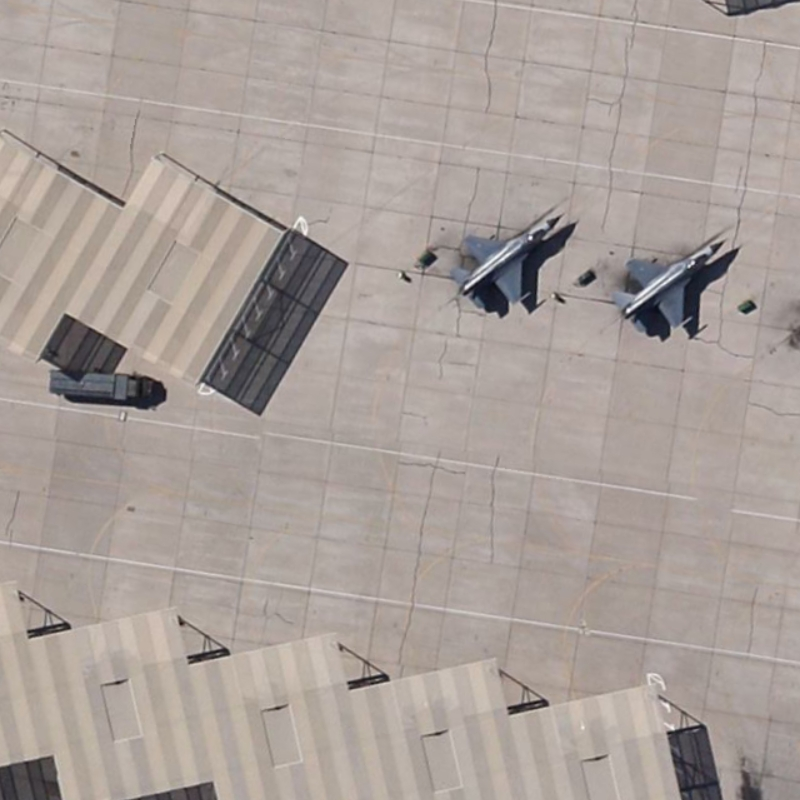A5: (602, 235, 732, 349), (443, 209, 570, 321)
